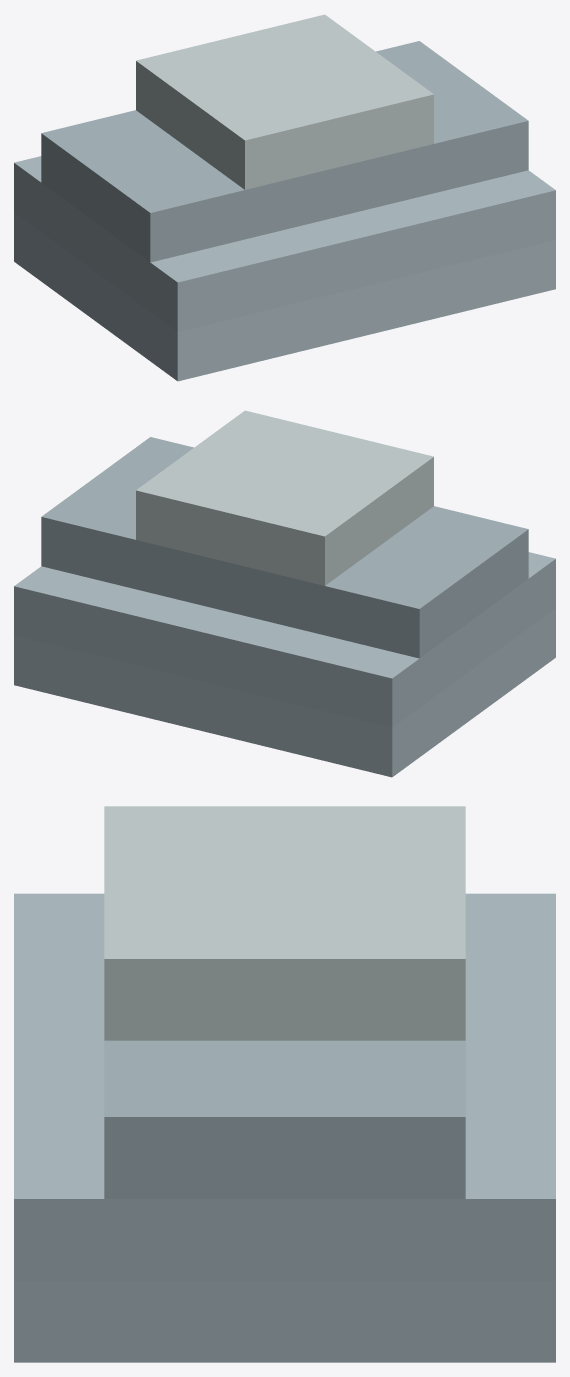
Rendered from mat_mithril_lod1.glb.
3 renders of one model, top to bottom at view 1: azimuth 30°, elevation 25°; view 2: azimuth 150°, elevation 25°; view 3: azimuth 270°, elevation 25°, orthographic. The views are drawn at different scales.
Visible parts, largest first — view 1: mat_mithril_lod1; view 2: mat_mithril_lod1; view 3: mat_mithril_lod1.
Boxes of the visible parts, x1=… form: mat_mithril_lod1: x1=14, y1=14, x2=555, y2=381; mat_mithril_lod1: x1=14, y1=410, x2=555, y2=777; mat_mithril_lod1: x1=14, y1=806, x2=555, y2=1362.
Bounding box in the file's own units: 0.192 × 0.096 × 0.144.
